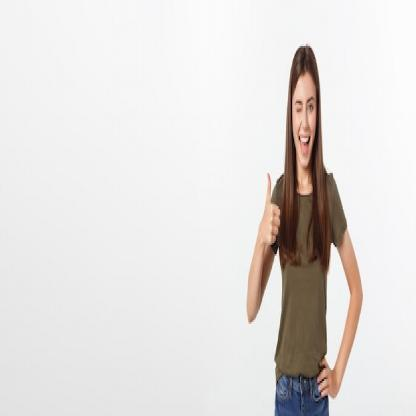thumb_up: (261, 164, 283, 262)
